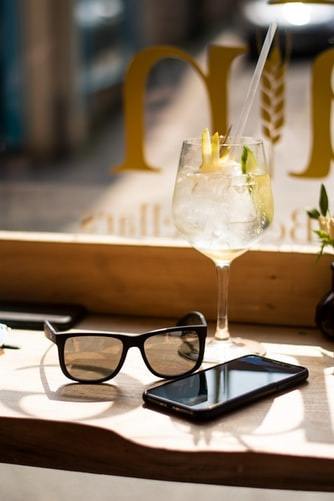whiskey: (176, 137, 268, 336)
